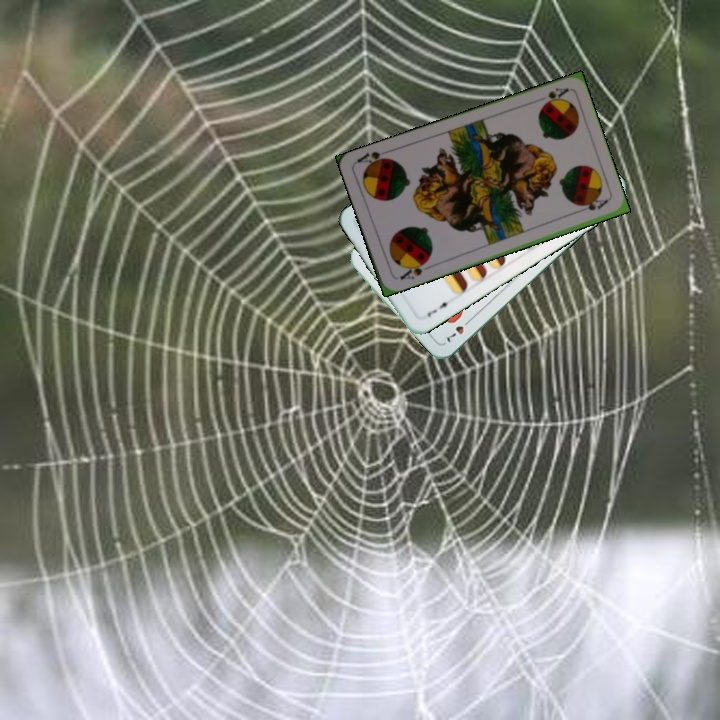E7: (422, 297, 454, 320)
H7: (443, 314, 474, 345)
SA: (396, 256, 433, 282), (537, 84, 571, 109)
